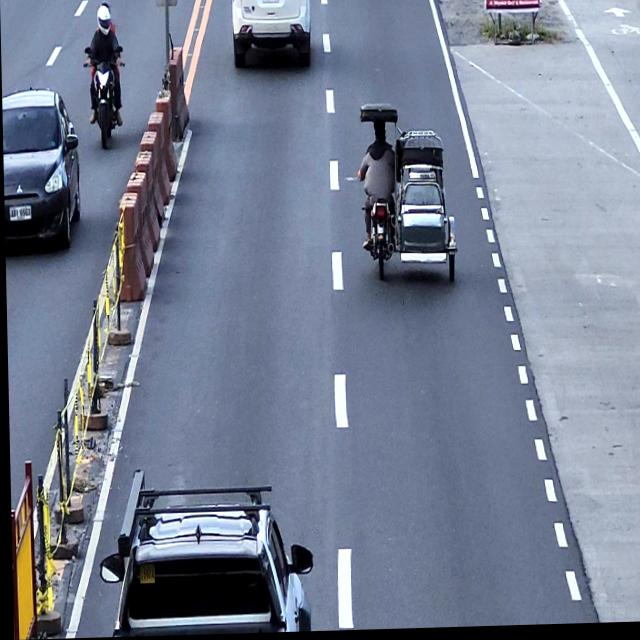Car: (106, 466, 312, 637), (2, 84, 80, 250), (230, 0, 311, 70)
License-Plate: (9, 206, 31, 220), (262, 0, 279, 5)
Motorcycle: (83, 45, 126, 150)
Tricycle: (355, 102, 457, 287)
